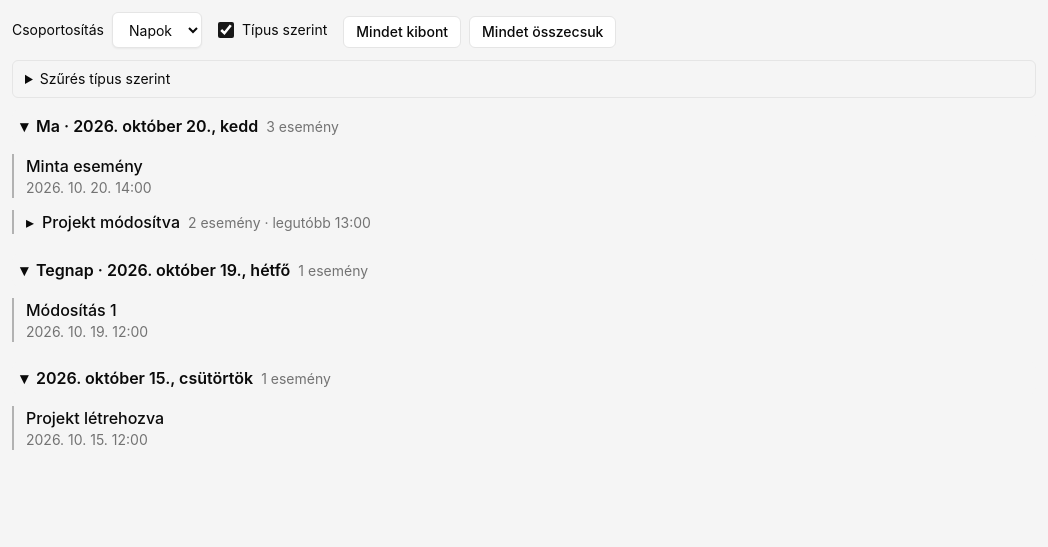
Test: Timeline › a típusszűrő a szervertől kéri a szűrt listát
The image size is (1048, 547).
Expected: the button "▾ Ma · 2026. október 20., kedd 3 esemény" is shown, [12,110,1036,142]
Click the heading "Szűrés típus szerint" at (105, 78), box [40,70,170,87]
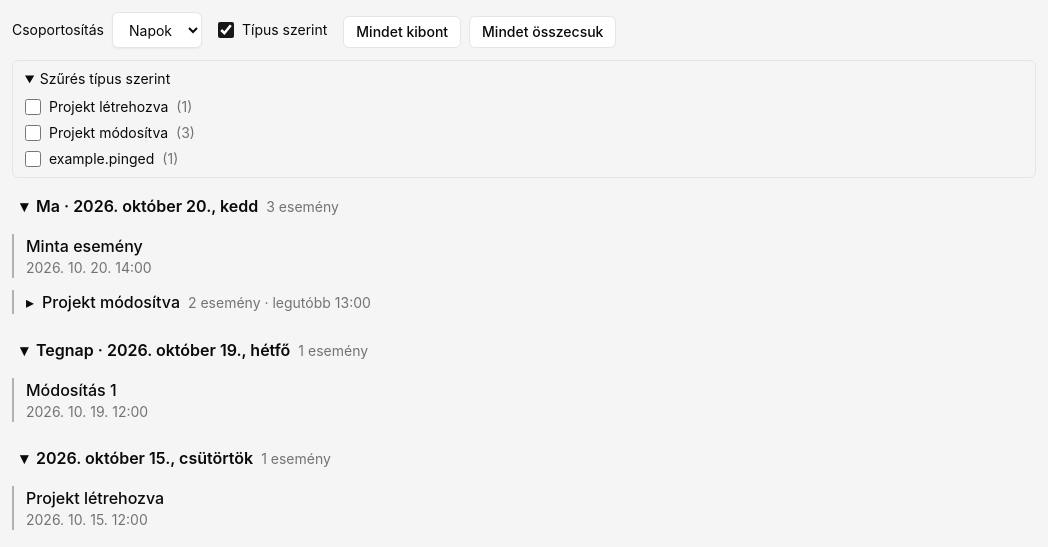
Click the checkbox labelled "Projekt létrehozva" at (33, 107), box [25,99,41,115]
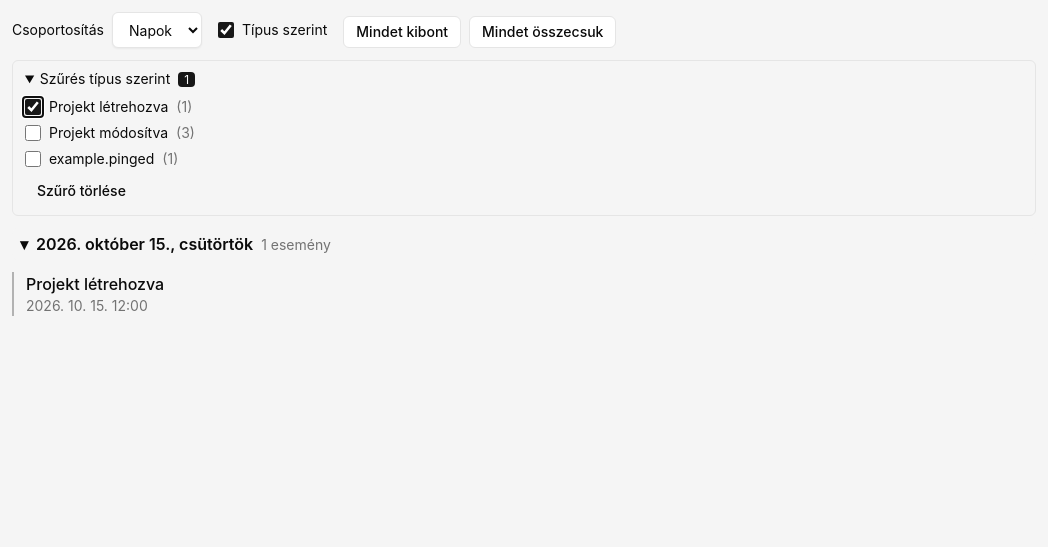
Expected: the button "▾ 2026. október 15., csütörtök 1 esemény" is shown, [12,228,1036,260]
Now the button "október 20." is gone
Click the button "Szűrő törlése" at (81, 191), box [25,175,138,207]
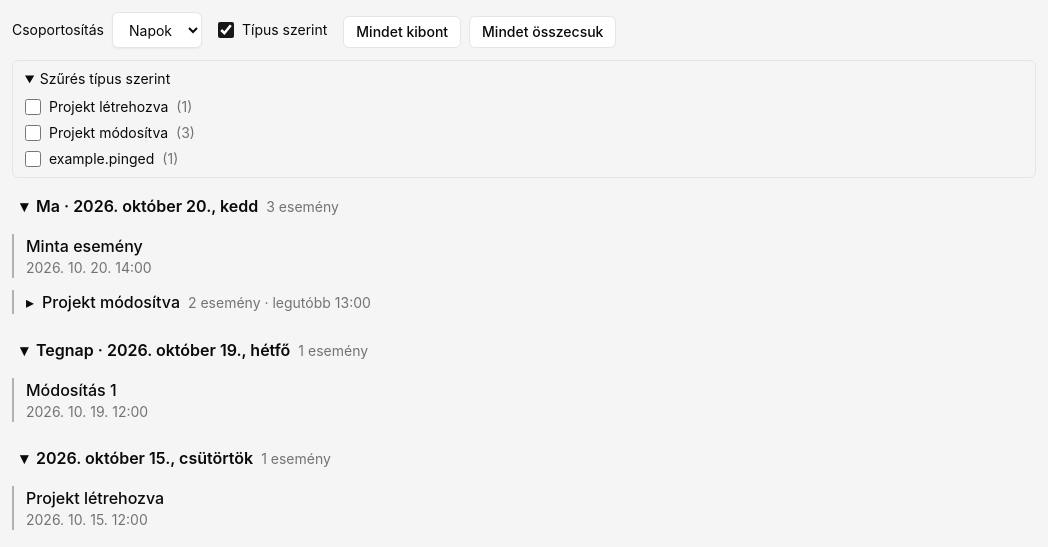
Now the button "▾ Ma · 2026. október 20., kedd 3 esemény" is shown, box [12,190,1036,222]
